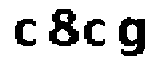8: (46, 6, 82, 52)
c: (11, 16, 39, 51), (83, 17, 109, 47)
g: (117, 15, 146, 60)
